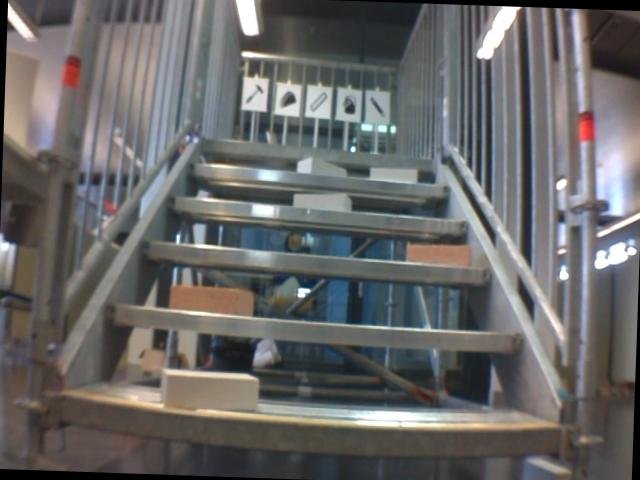brick: (158, 369, 258, 410), (170, 285, 254, 315), (407, 245, 471, 266), (293, 193, 350, 211), (297, 158, 346, 176), (370, 166, 416, 181)
bucket: (338, 94, 359, 114)
edge: (59, 395, 562, 457), (106, 304, 523, 353), (137, 240, 492, 286), (165, 195, 467, 234), (186, 164, 450, 195), (197, 137, 437, 170)
hammer: (242, 82, 265, 106)
pencil: (365, 95, 388, 120)
ruler: (307, 89, 331, 115)
steps: (45, 125, 575, 465)
taco: (276, 88, 297, 109)
